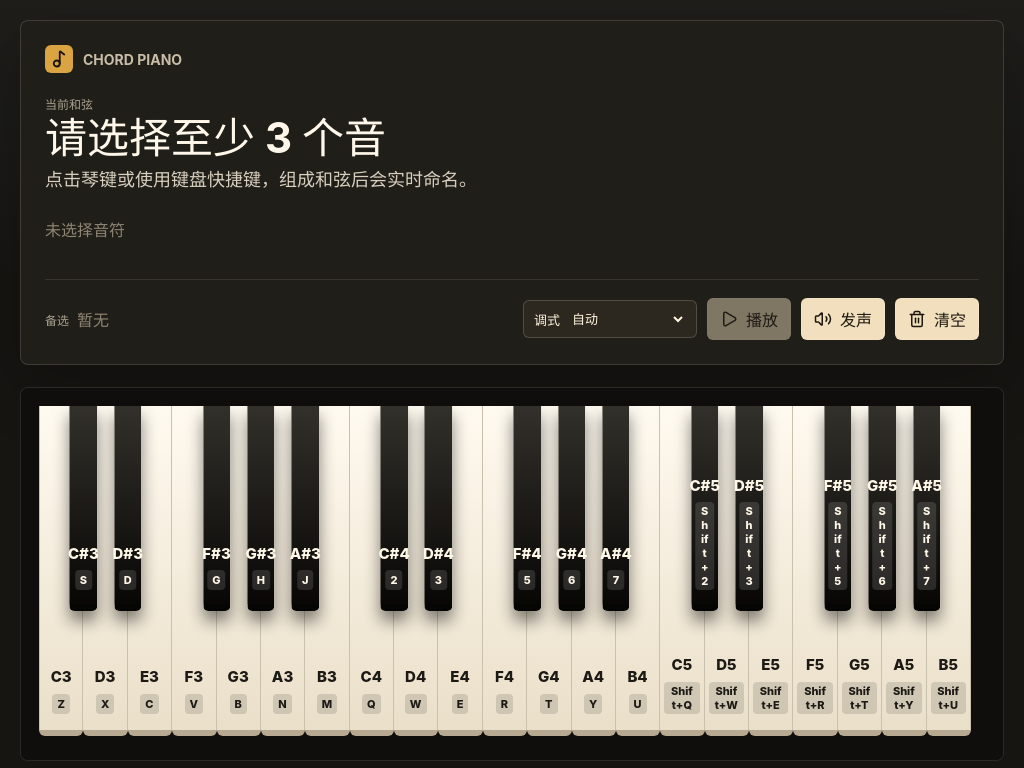
it: App › uses the selected tonality to spell enharmonic chord names
Click the button with test id "note-G#3".
click(261, 509)  # box x1=247 y1=406 x2=275 y2=611
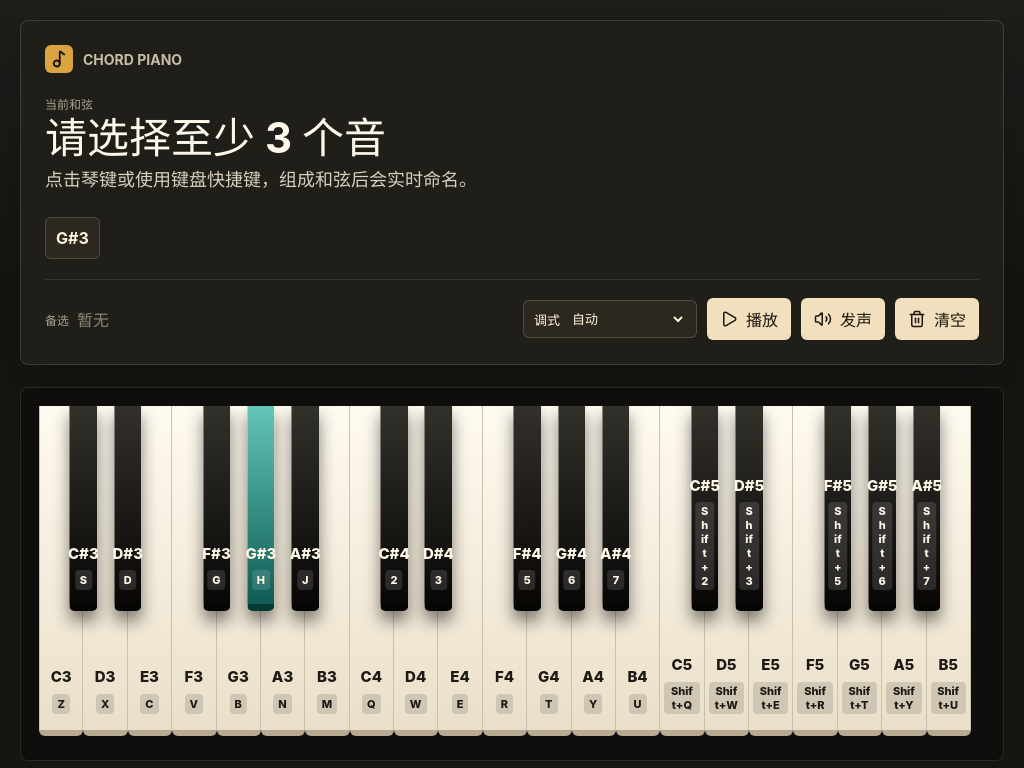
Click the button with test id "note-C4".
click(372, 571)  # box x1=350 y1=406 x2=394 y2=736
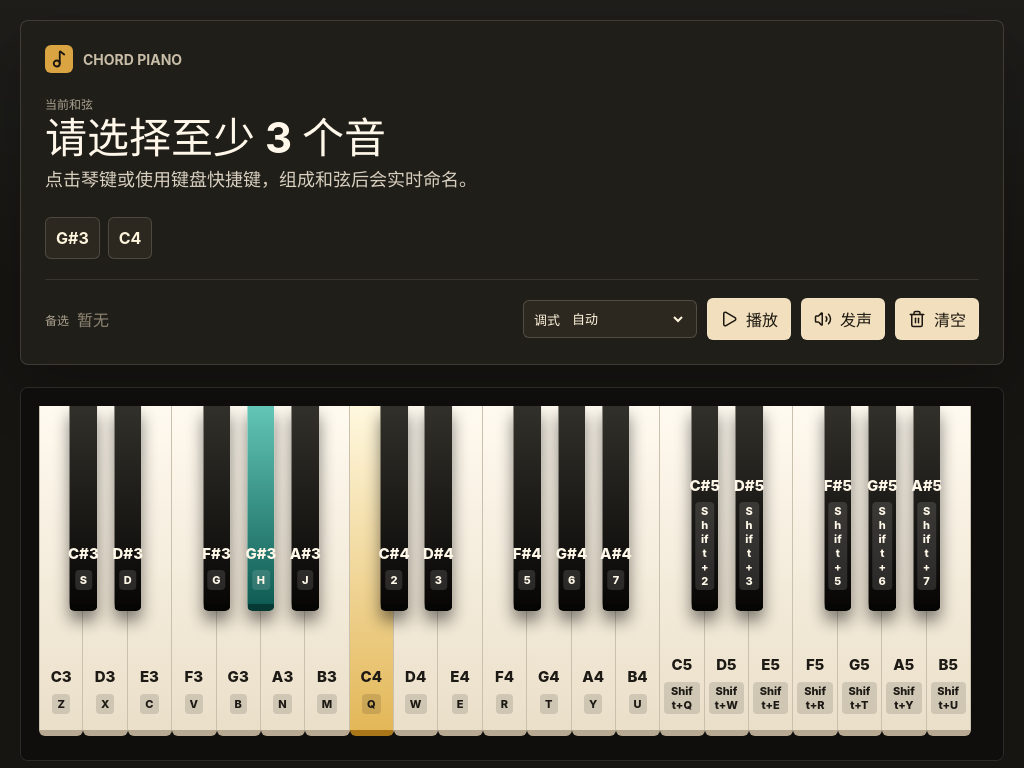
Click the button with test id "note-D#4".
click(438, 509)  # box x1=425 y1=406 x2=452 y2=611
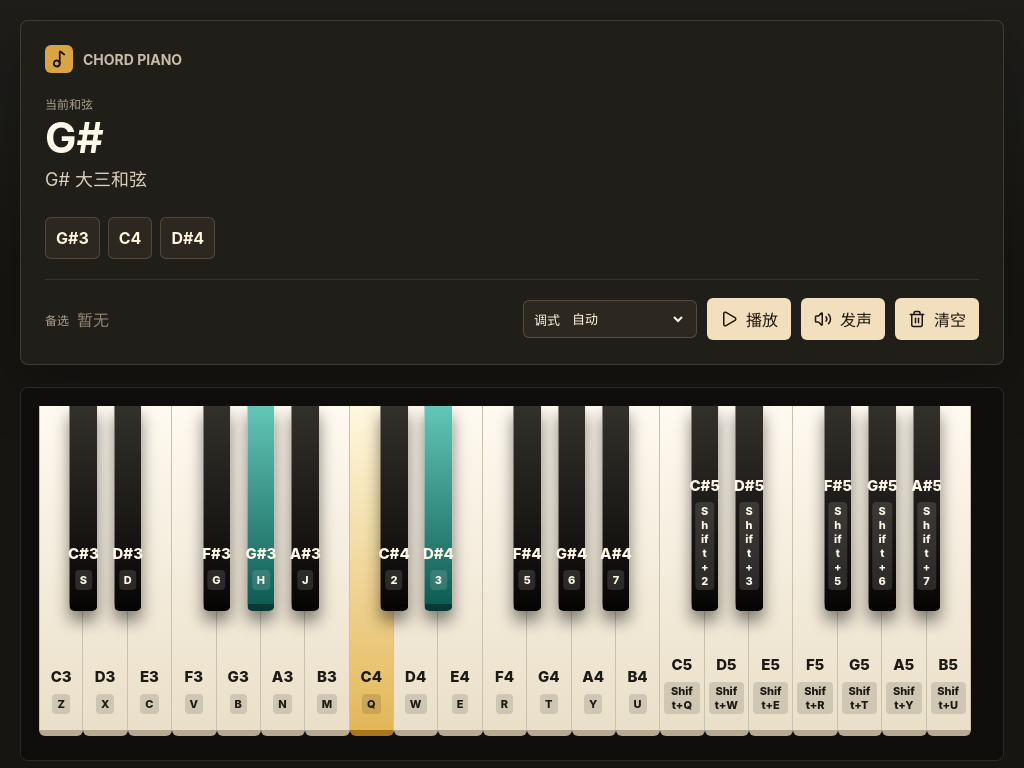
Result: the heading with test id "primary-chord" reads "G#" at x1=45 y1=112 x2=104 y2=163
Select "Eb 小调" in the dropdown named "选择调式" at (627, 319), box x1=568 y1=310 x2=686 y2=328
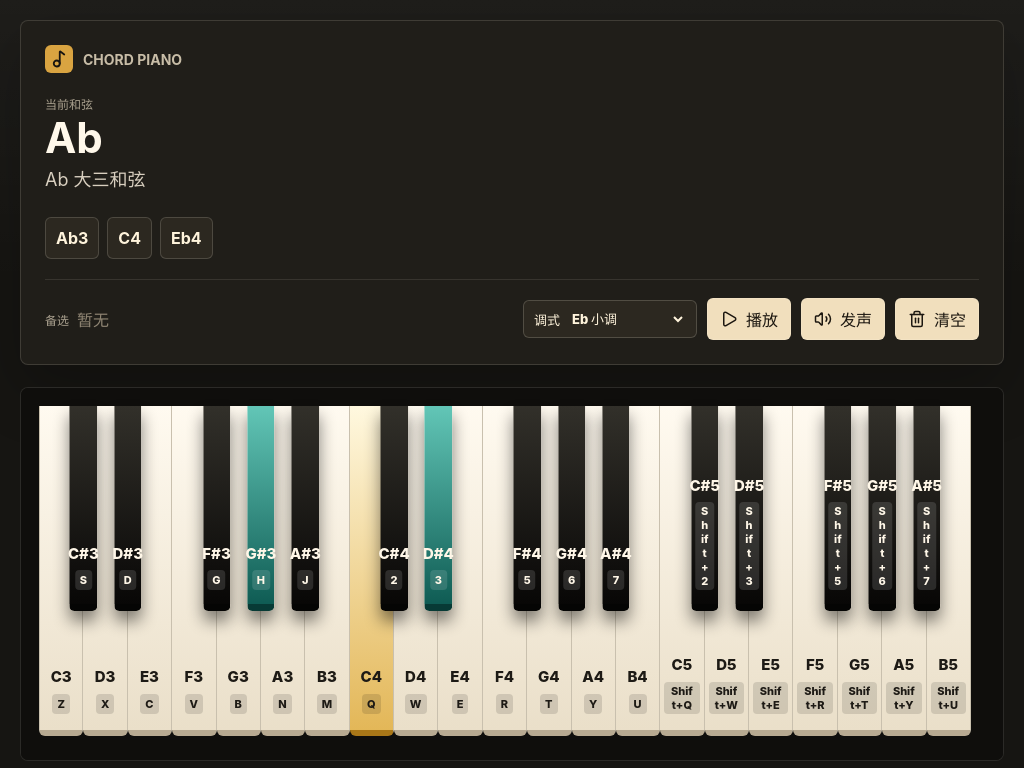
Result: the heading with test id "primary-chord" reads "Ab" at x1=45 y1=112 x2=103 y2=163
